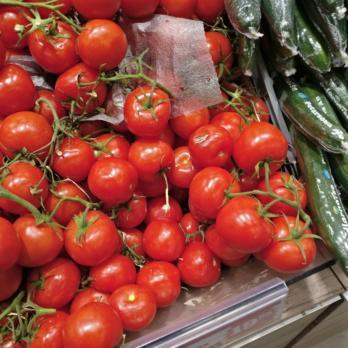Tomato: (3, 112, 288, 274), (3, 0, 232, 114), (22, 278, 153, 344)
